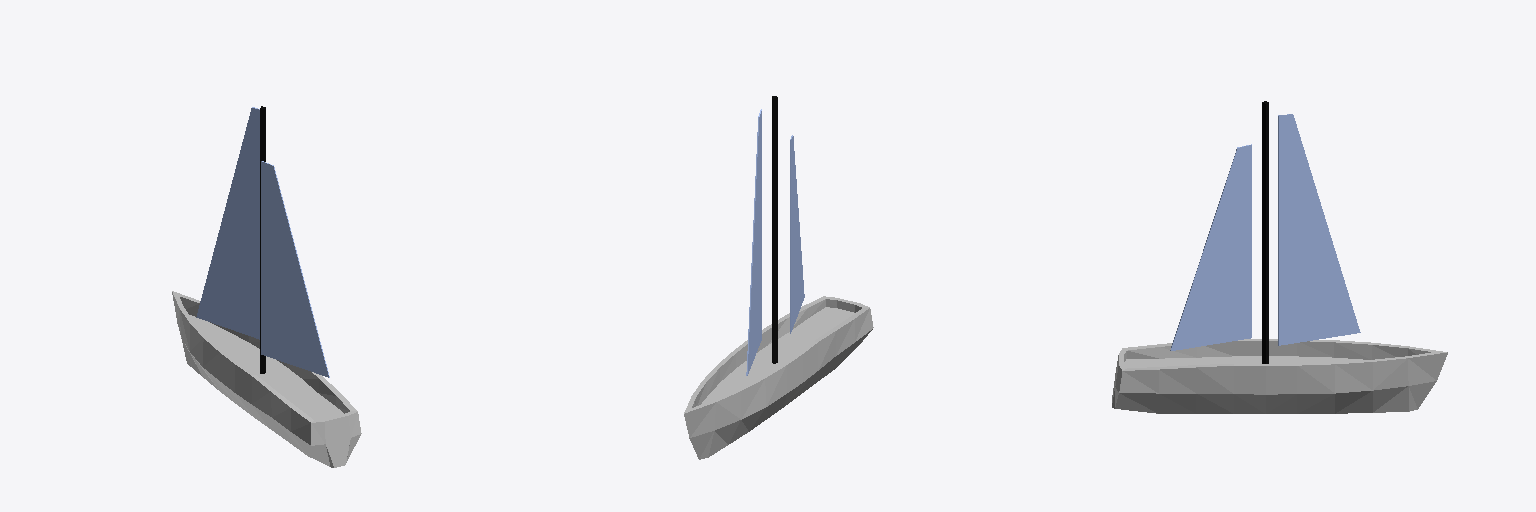
Rendered from ship0.obj.
The picture shows the model from 3 angles: view 1: azimuth 30°, elevation 25°; view 2: azimuth 150°, elevation 25°; view 3: azimuth 270°, elevation 25°; orthographic projection.
Parts seen in each view (by area): view 1: Cube, Cube.001, Cube.002, Cylinder; view 2: Cube, Cube.001, Cube.002, Cylinder; view 3: Cube, Cube.001, Cube.002, Cylinder.
Boxes of the visible parts, x1,y1,x2,y2 form: Cube: [172, 291, 361, 467]; Cube.001: [196, 107, 259, 339]; Cube.002: [261, 161, 329, 377]; Cylinder: [260, 106, 265, 373]; Cube: [684, 296, 873, 459]; Cube.001: [746, 109, 761, 375]; Cube.002: [790, 135, 804, 333]; Cylinder: [772, 96, 777, 363]; Cube: [1112, 339, 1447, 413]; Cube.001: [1278, 114, 1360, 345]; Cube.002: [1170, 144, 1251, 350]; Cylinder: [1262, 101, 1268, 363].
Size of the model in its own units: 2.05 by 10.72 by 10.66.